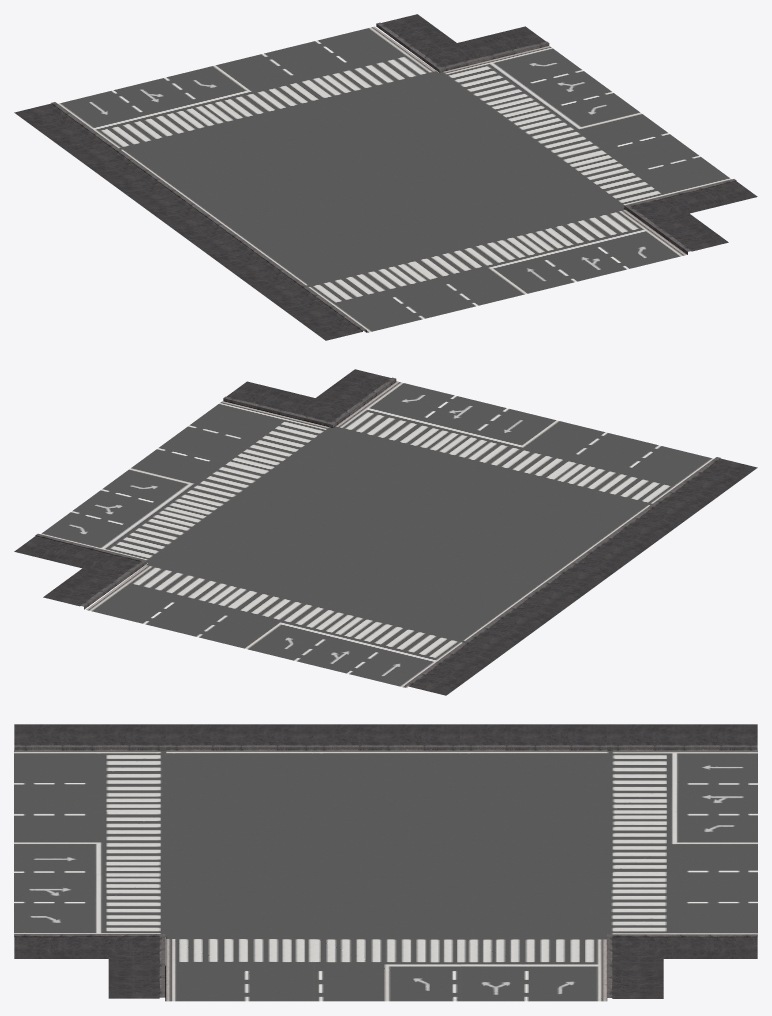
Rendered from 6 line T intersection_mobile.FBX.
The picture shows the model from 3 angles, top to bottom: view 1: azimuth 30°, elevation 25°; view 2: azimuth 150°, elevation 25°; view 3: azimuth 270°, elevation 25°; orthographic projection. The views are drawn at different scales.
Visible parts, largest first — view 1: Plane100; view 2: Plane100; view 3: Plane100.
Boxes of the visible parts, x1,y1,x2,y2 form: Plane100: [14, 14, 757, 340]; Plane100: [14, 369, 757, 695]; Plane100: [14, 724, 757, 1001].
Bounding box in the file's own units: 51.58 × 0.3187 × 59.07.
